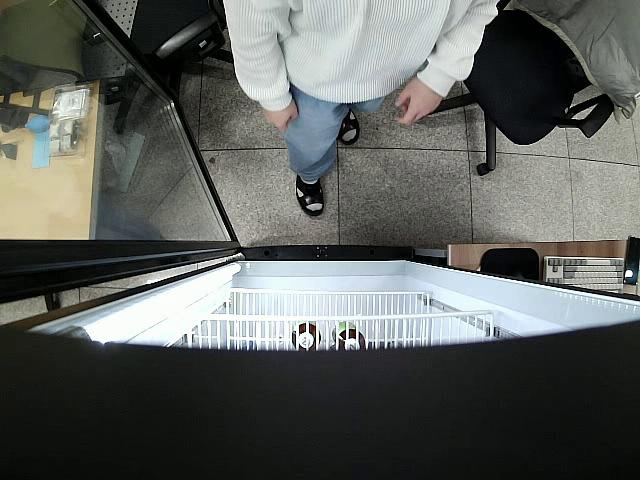00_hand: (393, 76, 445, 128), (262, 103, 309, 136)
